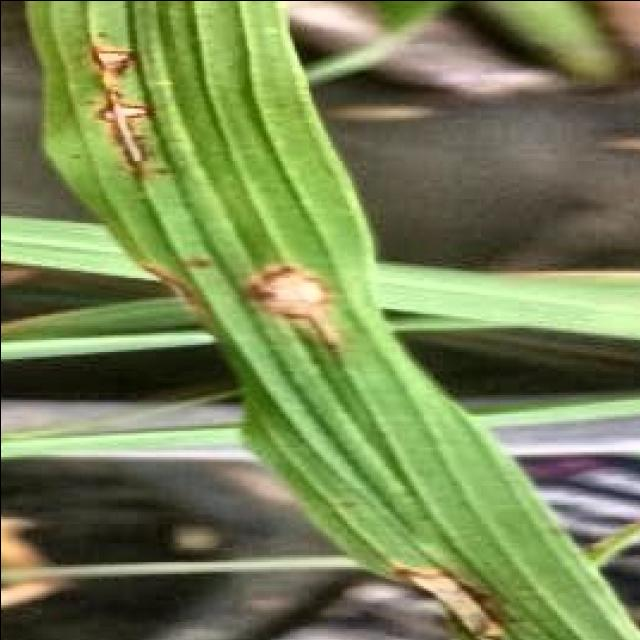Leaf_Blast: (81, 42, 361, 346)
